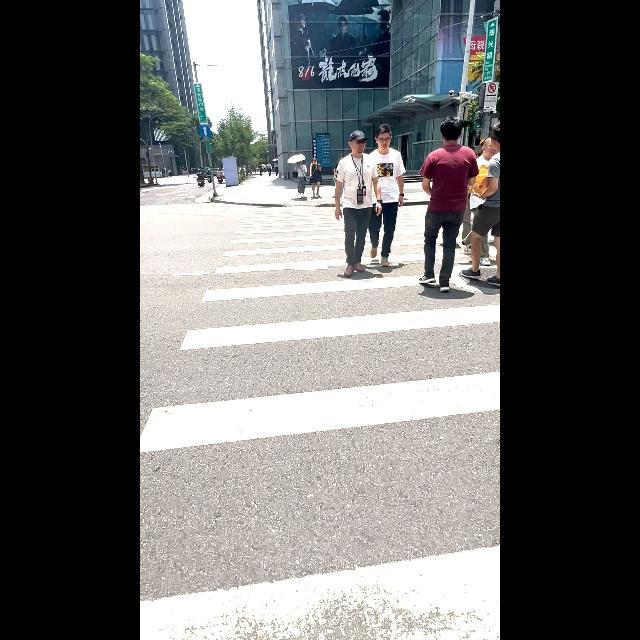sidewalk: (141, 209, 497, 639)
